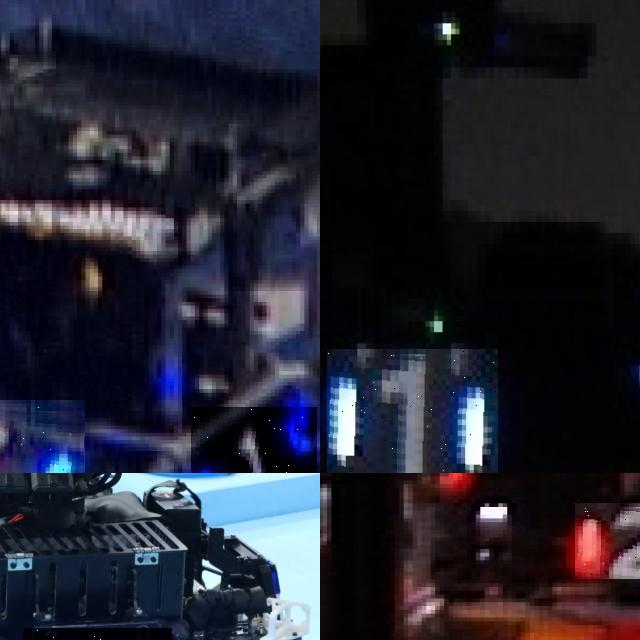B1: (327, 348, 497, 473), (190, 407, 317, 473), (0, 400, 85, 473)
R2: (575, 503, 640, 579)
